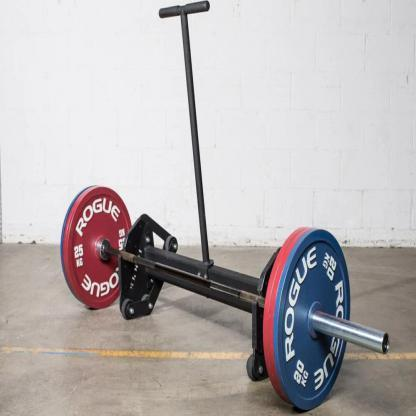barbell: (61, 184, 388, 416)
